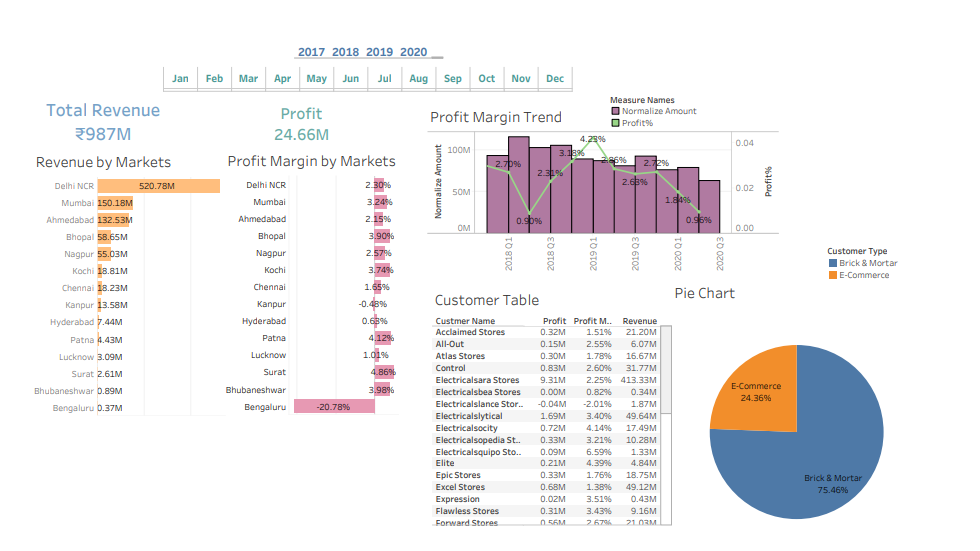

Layout of this report page (visuals, bound fields, positions):
{"tool":"tableau","page":{"name":"Profit Analysis","canvas":[1600,900],"ordinal":1},"visuals":[{"type":"worksheet","title":"Year","mark":"Automatic","cols":["cy_date"],"box":[469,4,386,39]},{"type":"worksheet","title":"Month","mark":"Automatic","cols":["cy_date","cy_date"],"box":[238,43,721,75]},{"type":"worksheet","title":"Revenue","mark":"Automatic","box":[22,97,251,105]},{"type":"legend","title":"Profit Margin Trend","param":"[federated.0t537q318p0ir61basnsj0j8naho].[:Measure Names]","box":[1024,102,159,64]},{"type":"worksheet","title":"Profit","mark":"Automatic","box":[422,120,154,79]},{"type":"worksheet","title":"Profit Margin Trend","mark":"Bar","rows":["Calculation_81627799992209408","Calculation_81627800039174147"],"cols":["cy_date"],"box":[704,121,618,297]},{"type":"worksheet","title":"Profit Margin by Markets","mark":"Automatic","rows":["markets_name"],"cols":["Calculation_81627800039174147"],"box":[347,199,305,522]},{"type":"worksheet","title":"Revenue by Markets","mark":"Automatic","rows":["markets_name"],"cols":["Calculation_81627799992209408"],"box":[9,201,338,508]},{"type":"legend","title":"Pie Chart","param":"[federated.0t537q318p0ir61basnsj0j8naho].[none:customer_type:nk]","box":[1407,369,140,64]},{"type":"worksheet","title":"Customer Table","mark":"Automatic","rows":["custmer_name"],"box":[712,443,435,421]}]}

Visuals, with their boxes in screenshot pixels (x1, y1, x2, y2), scaled from the page's 1600x900 canvas onto the 980x551 screenshot:
"Year" worksheet: Rect(287, 2, 524, 26)
"Month" worksheet: Rect(146, 26, 587, 72)
"Revenue" worksheet: Rect(13, 59, 167, 124)
"Profit Margin Trend" legend: Rect(627, 62, 725, 102)
"Profit" worksheet: Rect(258, 73, 353, 122)
"Profit Margin Trend" worksheet (Bar marks): Rect(431, 74, 810, 256)
"Profit Margin by Markets" worksheet: Rect(213, 122, 399, 441)
"Revenue by Markets" worksheet: Rect(6, 123, 213, 434)
"Pie Chart" legend: Rect(862, 226, 948, 265)
"Customer Table" worksheet: Rect(436, 271, 703, 529)
